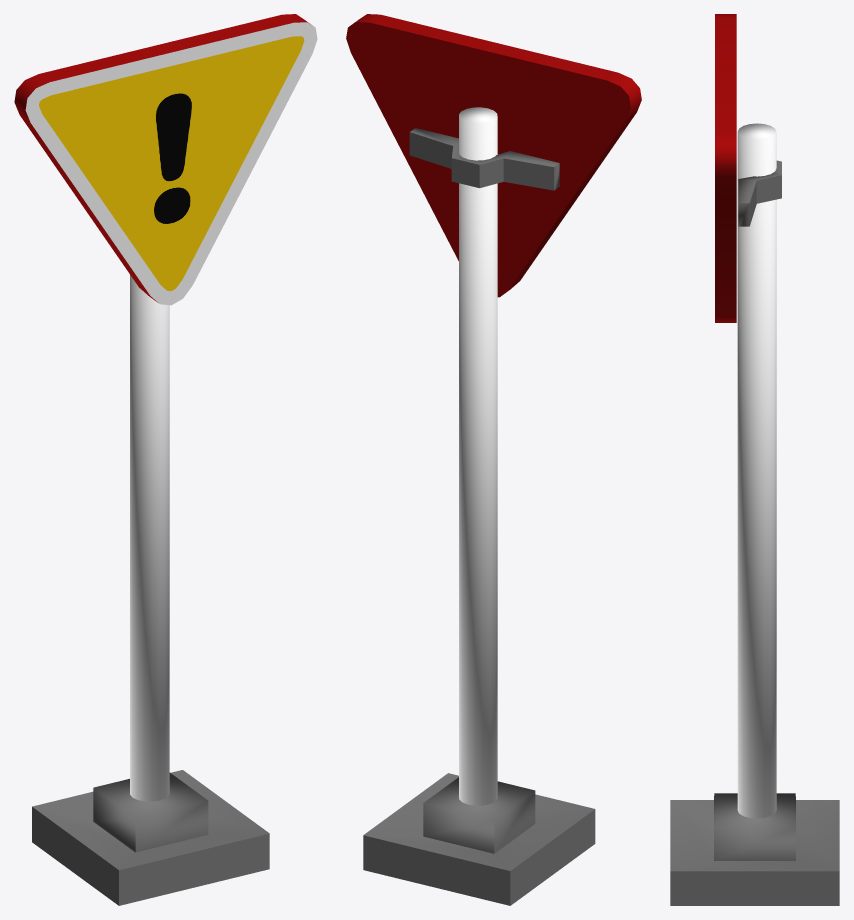
The model's file is Sign_1.fbx.
3 views of the same model, side by side, from view 1: azimuth 30°, elevation 25°; view 2: azimuth 150°, elevation 25°; view 3: azimuth 270°, elevation 25° (orthographic). The views are drawn at different scales.
Parts seen in each view (by area): view 1: Sign_1; view 2: Sign_1; view 3: Sign_1.
Part boxes in pixels (x1=…): Sign_1: x1=14, y1=14, x2=317, y2=905; Sign_1: x1=346, y1=14, x2=641, y2=905; Sign_1: x1=670, y1=14, x2=839, y2=905.
Size of the model in its own units: 1.13 by 0.5853 by 3.04.
